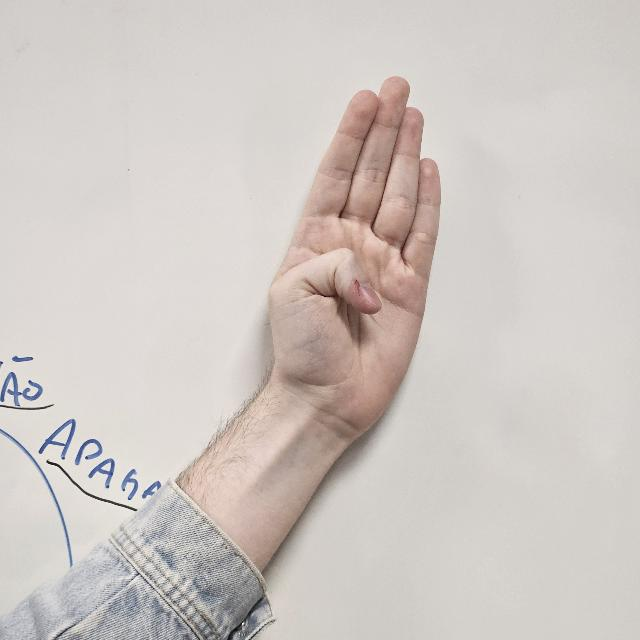Baixo: (262, 70, 442, 446)
